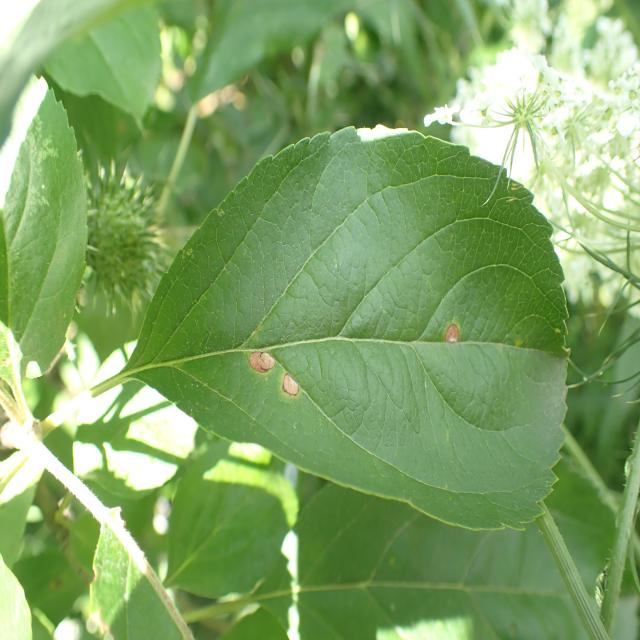frog-eye-leaf-spot: (124, 125, 573, 533)
